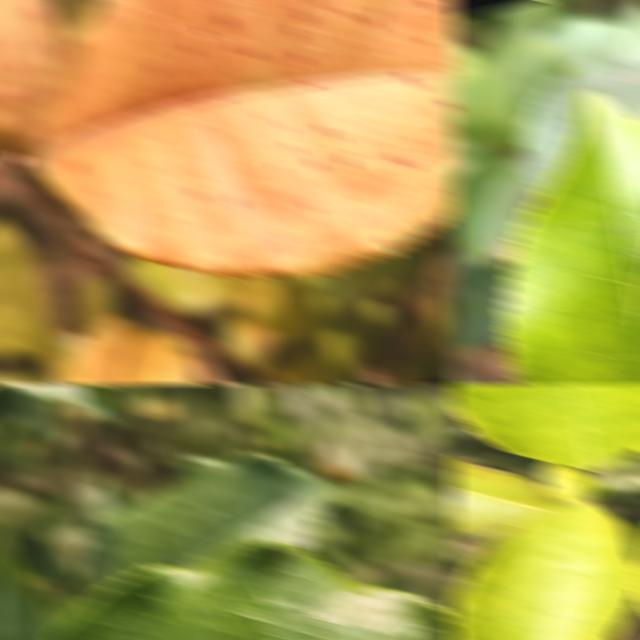Leaf: (36, 0, 458, 276), (54, 453, 341, 625), (44, 538, 458, 640), (500, 90, 640, 385), (450, 498, 640, 640), (450, 383, 640, 471), (518, 59, 640, 192), (50, 314, 201, 385), (0, 0, 69, 155), (450, 151, 537, 267), (0, 214, 63, 362), (450, 455, 568, 534), (0, 514, 58, 640), (450, 263, 514, 348)
